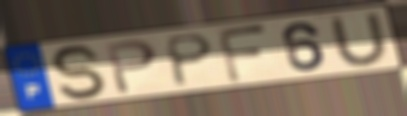6: (280, 21, 329, 74)
F: (214, 23, 271, 85)
P: (102, 37, 160, 97), (165, 32, 217, 89)
S: (48, 43, 113, 102)
U: (326, 11, 393, 68)
